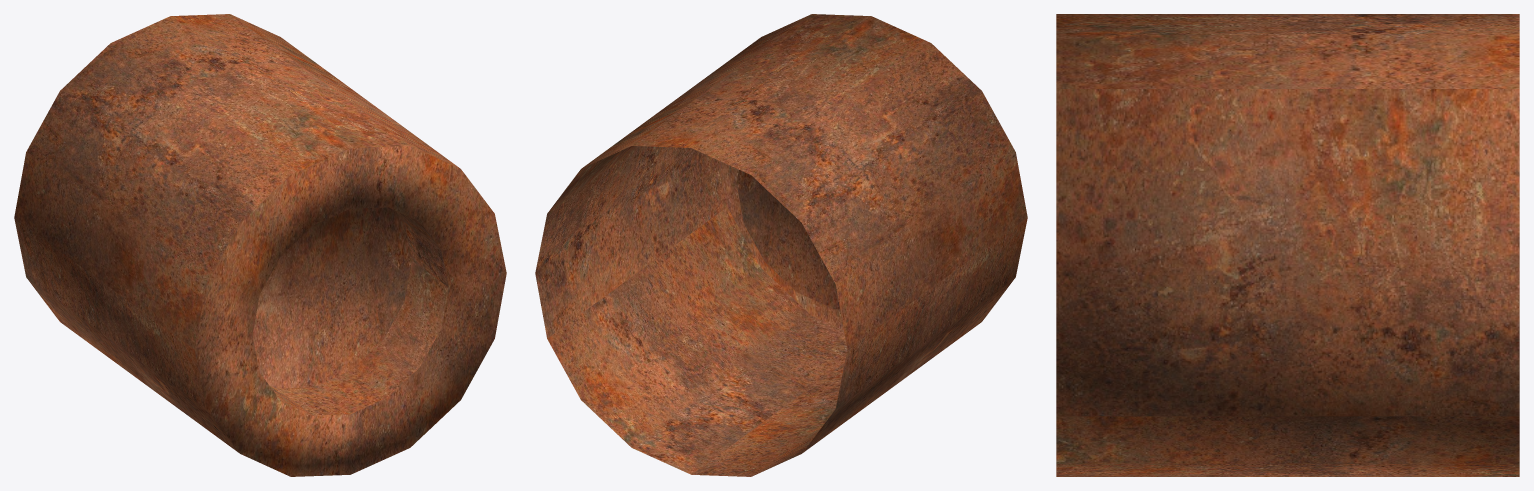
Rendered from pipe.fbx.
The picture shows the model from 3 angles, left to right: view 1: azimuth 30°, elevation 25°; view 2: azimuth 150°, elevation 25°; view 3: azimuth 270°, elevation 25°; orthographic projection. The views are drawn at different scales.
Parts seen in each view (by area): view 1: pipe; view 2: pipe; view 3: pipe.
Boxes of the visible parts, x1,y1,x2,y2 form: pipe: (14, 14, 506, 476); pipe: (535, 14, 1027, 476); pipe: (1056, 14, 1519, 476).
Bounding box in the file's own units: 57.62 × 57.62 × 57.62.
